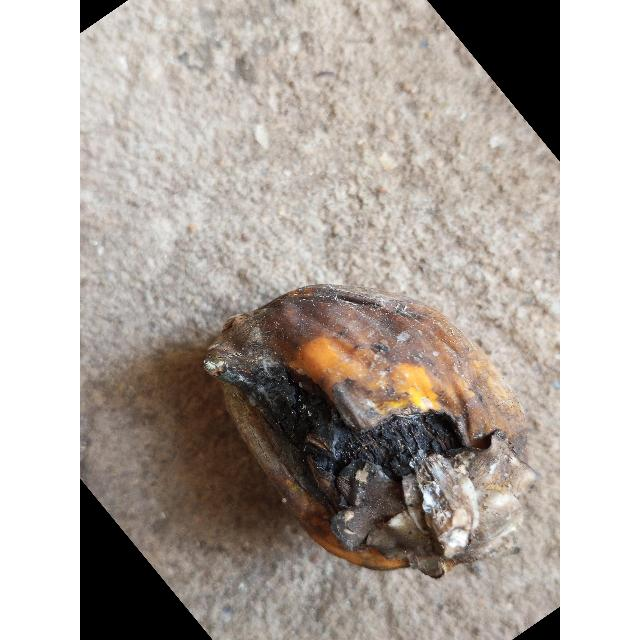damaged: (204, 285, 535, 579)
